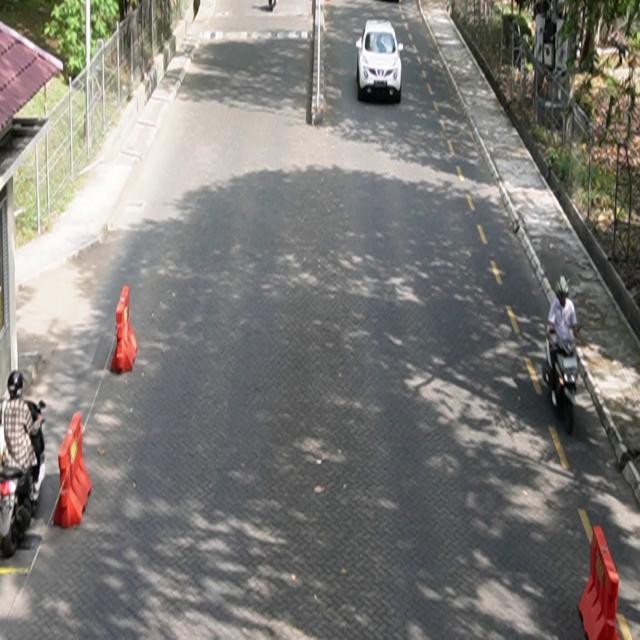car: (357, 19, 404, 103)
